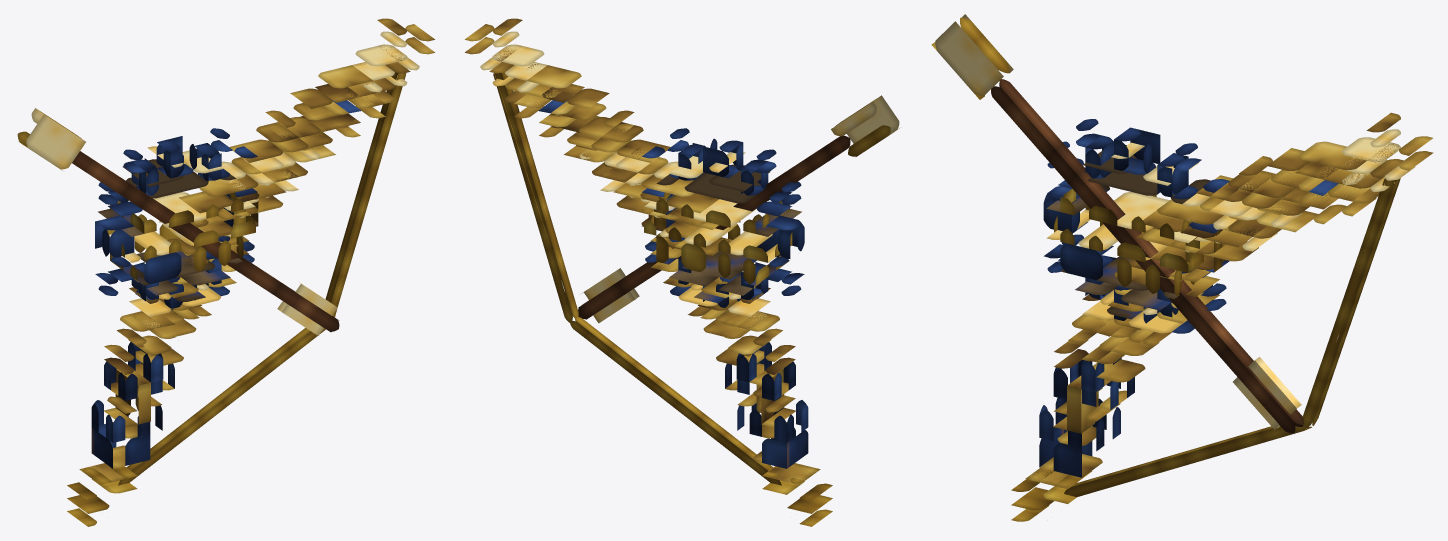
Rendered from horizon_bow_pulling_2.obj.
3 views of the same model, side by side, from view 1: azimuth 30°, elevation 25°; view 2: azimuth 150°, elevation 25°; view 3: azimuth 330°, elevation 25° (orthographic). The views are drawn at different scales.
Parts seen in each view (by area): view 1: lit, fire; view 2: lit, fire; view 3: lit, fire.
Part boxes in pixels (<box>): lit: <box>17,18,434,526</box>; fire: <box>95,128,337,335</box>; lit: <box>465,18,899,526</box>; fire: <box>581,128,804,323</box>; lit: <box>931,14,1433,521</box>; fire: <box>1043,119,1301,429</box>.
Size of the model in its own units: 1.04 by 1.02 by 0.15.
